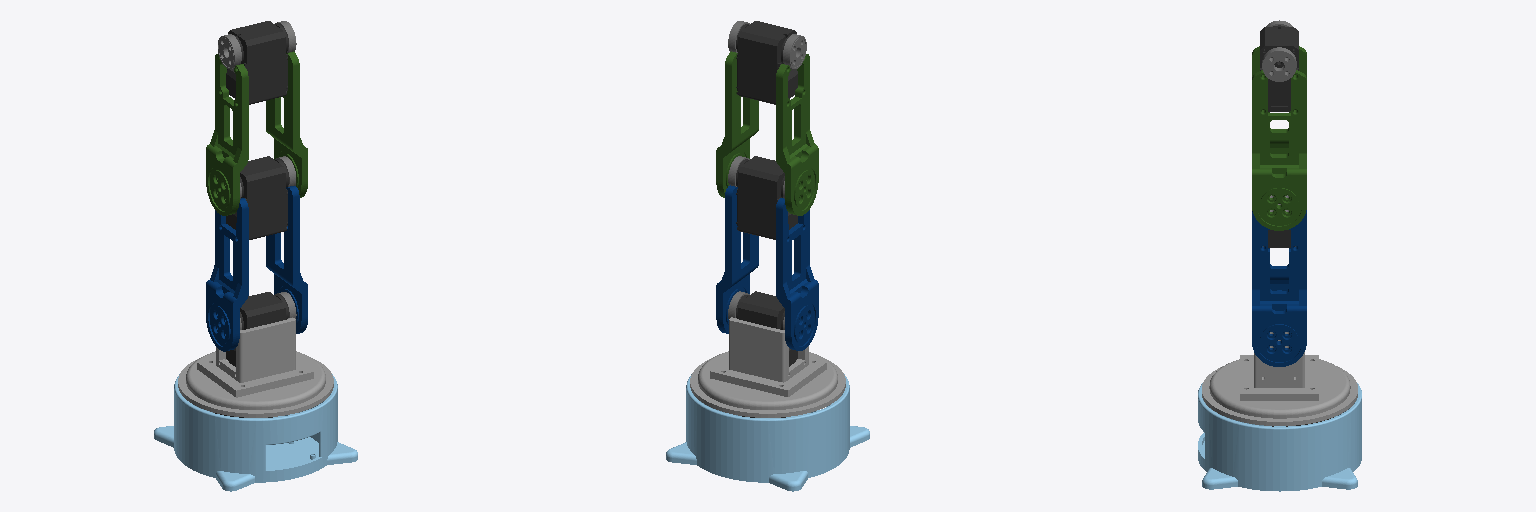
URDF robot description (onshape_export):
<?xml version="1.0" ?>
<!-- Generated using onshape-to-robot -->
<!-- Onshape https://cad.onshape.com/documents/b026964aa62daf9c1ecc4815/w/b181745cba52742b3ffb21e6/e/5ac1da73cba8f2619ef0b056 -->
<robot name="onshape_export">
  <!-- Link base_servo_board -->
  <link name="base_servo_board">
    <inertial>
      <origin xyz="-0.0133535 0.0277534 0.0174126" rpy="0 0 0"/>
      <mass value="0.129831"/>
      <inertia ixx="0.000122021" ixy="0" ixz="-1e-12" iyy="0.00011993" iyz="-4.59013e-06" izz="0.000193858"/>
    </inertial>
    <!-- Part base_servo_board -->
    <visual>
      <origin xyz="-0.0133535 0.025576 0.00282843" rpy="0 -0 -1.5708"/>
      <geometry>
        <mesh filename="package://assets/base_servo_board.stl"/>
      </geometry>
      <material name="base_servo_board_material">
        <color rgba="0.615686 0.811765 0.929412 1"/>
      </material>
    </visual>
    <collision>
      <origin xyz="-0.0133535 0.025576 0.00282843" rpy="0 -0 -1.5708"/>
      <geometry>
        <mesh filename="package://assets/base_servo_board.stl"/>
      </geometry>
    </collision>
    <!-- Part servo_motor_sts3215_v10 -->
    <visual>
      <origin xyz="-0.0133535 0.025576 0.00282843" rpy="0 -0 -1.5708"/>
      <geometry>
        <mesh filename="package://assets/servo_motor_sts3215_v10.stl"/>
      </geometry>
      <material name="servo_motor_sts3215_v10_material">
        <color rgba="0.247059 0.247059 0.247059 1"/>
      </material>
    </visual>
    <collision>
      <origin xyz="-0.0133535 0.025576 0.00282843" rpy="0 -0 -1.5708"/>
      <geometry>
        <mesh filename="package://assets/servo_motor_sts3215_v10.stl"/>
      </geometry>
    </collision>
  </link>
  <!-- Link base_of_shoulder -->
  <link name="base_of_shoulder">
    <inertial>
      <origin xyz="0.000212166 -0.000490641 -0.0181865" rpy="0 0 0"/>
      <mass value="0.158649"/>
      <inertia ixx="9.86914e-05" ixy="7.856e-09" ixz="3.75365e-07" iyy="9.48702e-05" iyz="-1.33715e-06" izz="0.00010186"/>
    </inertial>
    <!-- Part j2_servo -->
    <visual>
      <origin xyz="0.000373 -0.000626933 0.0189" rpy="-3.14159 0 -1.5708"/>
      <geometry>
        <mesh filename="package://assets/j2_servo.stl"/>
      </geometry>
      <material name="j2_servo_material">
        <color rgba="0.247059 0.247059 0.247059 1"/>
      </material>
    </visual>
    <collision>
      <origin xyz="0.000373 -0.000626933 0.0189" rpy="-3.14159 0 -1.5708"/>
      <geometry>
        <mesh filename="package://assets/j2_servo.stl"/>
      </geometry>
    </collision>
    <!-- Part base_of_shoulder -->
    <visual>
      <origin xyz="-0.0038 0 0.0398" rpy="3.14159 -0 0"/>
      <geometry>
        <mesh filename="package://assets/base_of_shoulder.stl"/>
      </geometry>
      <material name="base_of_shoulder_material">
        <color rgba="0.647059 0.647059 0.647059 1"/>
      </material>
    </visual>
    <collision>
      <origin xyz="-0.0038 0 0.0398" rpy="3.14159 -0 0"/>
      <geometry>
        <mesh filename="package://assets/base_of_shoulder.stl"/>
      </geometry>
    </collision>
    <!-- Part socker_j1 -->
    <visual>
      <origin xyz="0.000373 0.004173 0.0398" rpy="-3.14159 -0 -1.5708"/>
      <geometry>
        <mesh filename="package://assets/socker_j1.stl"/>
      </geometry>
      <material name="socker_j1_material">
        <color rgba="0.647059 0.647059 0.647059 1"/>
      </material>
    </visual>
    <collision>
      <origin xyz="0.000373 0.004173 0.0398" rpy="-3.14159 -0 -1.5708"/>
      <geometry>
        <mesh filename="package://assets/socker_j1.stl"/>
      </geometry>
    </collision>
  </link>
  <!-- Link shoulder_left -->
  <link name="shoulder_left">
    <inertial>
      <origin xyz="1.782e-09 0.0588026 0.0179401" rpy="0 0 0"/>
      <mass value="0.0926197"/>
      <inertia ixx="0.000134917" ixy="3.1e-11" ixz="-3e-12" iyy="3.16373e-05" iyz="-7.45929e-07" izz="0.00011795"/>
    </inertial>
    <!-- Part shoulder_left -->
    <visual>
      <origin xyz="-0 -0.0679 0.0176" rpy="-1.5708 -1.5708 0"/>
      <geometry>
        <mesh filename="package://assets/shoulder_left.stl"/>
      </geometry>
      <material name="shoulder_left_material">
        <color rgba="0.0627451 0.266667 0.490196 1"/>
      </material>
    </visual>
    <collision>
      <origin xyz="-0 -0.0679 0.0176" rpy="-1.5708 -1.5708 0"/>
      <geometry>
        <mesh filename="package://assets/shoulder_left.stl"/>
      </geometry>
    </collision>
    <!-- Part left_cover -->
    <visual>
      <origin xyz="-0 -0.0679 0.0176" rpy="-1.5708 -1.5708 0"/>
      <geometry>
        <mesh filename="package://assets/left_cover.stl"/>
      </geometry>
      <material name="left_cover_material">
        <color rgba="0.498039 0.498039 0.498039 1"/>
      </material>
    </visual>
    <collision>
      <origin xyz="-0 -0.0679 0.0176" rpy="-1.5708 -1.5708 0"/>
      <geometry>
        <mesh filename="package://assets/left_cover.stl"/>
      </geometry>
    </collision>
    <!-- Part j3_servo -->
    <visual>
      <origin xyz="0 -0.0679 0.0175809" rpy="-1.5708 -1.5708 0"/>
      <geometry>
        <mesh filename="package://assets/j3_servo.stl"/>
      </geometry>
      <material name="j3_servo_material">
        <color rgba="0.247059 0.247059 0.247059 1"/>
      </material>
    </visual>
    <collision>
      <origin xyz="0 -0.0679 0.0175809" rpy="-1.5708 -1.5708 0"/>
      <geometry>
        <mesh filename="package://assets/j3_servo.stl"/>
      </geometry>
    </collision>
    <!-- Part right_cover -->
    <visual>
      <origin xyz="0 -0.0679 0.0175617" rpy="-1.5708 -1.5708 0"/>
      <geometry>
        <mesh filename="package://assets/right_cover.stl"/>
      </geometry>
      <material name="right_cover_material">
        <color rgba="0.498039 0.498039 0.498039 1"/>
      </material>
    </visual>
    <collision>
      <origin xyz="0 -0.0679 0.0175617" rpy="-1.5708 -1.5708 0"/>
      <geometry>
        <mesh filename="package://assets/right_cover.stl"/>
      </geometry>
    </collision>
    <!-- Part shoulder_right -->
    <visual>
      <origin xyz="0 -0.0679 0.0175617" rpy="-1.5708 -1.5708 0"/>
      <geometry>
        <mesh filename="package://assets/shoulder_right.stl"/>
      </geometry>
      <material name="shoulder_right_material">
        <color rgba="0.0627451 0.266667 0.490196 1"/>
      </material>
    </visual>
    <collision>
      <origin xyz="0 -0.0679 0.0175617" rpy="-1.5708 -1.5708 0"/>
      <geometry>
        <mesh filename="package://assets/shoulder_right.stl"/>
      </geometry>
    </collision>
  </link>
  <!-- Link left_cover -->
  <link name="left_cover">
    <inertial>
      <origin xyz="1.757e-09 0.0585345 0.0179499" rpy="0 0 0"/>
      <mass value="0.0917628"/>
      <inertia ixx="0.000133948" ixy="3.2e-11" ixz="-3e-12" iyy="3.12113e-05" iyz="-5.94716e-07" izz="0.000117205"/>
    </inertial>
    <!-- Part right_cover_2 -->
    <visual>
      <origin xyz="-0 -0.0679 0.0175617" rpy="-1.5708 -1.5708 0"/>
      <geometry>
        <mesh filename="package://assets/right_cover.stl"/>
      </geometry>
      <material name="right_cover_2_material">
        <color rgba="0.498039 0.498039 0.498039 1"/>
      </material>
    </visual>
    <collision>
      <origin xyz="-0 -0.0679 0.0175617" rpy="-1.5708 -1.5708 0"/>
      <geometry>
        <mesh filename="package://assets/right_cover.stl"/>
      </geometry>
    </collision>
    <!-- Part elbow_left -->
    <visual>
      <origin xyz="0 -0.0539 0.0176" rpy="-1.5708 -1.5708 0"/>
      <geometry>
        <mesh filename="package://assets/elbow_left.stl"/>
      </geometry>
      <material name="elbow_left_material">
        <color rgba="0.25098 0.419608 0.172549 1"/>
      </material>
    </visual>
    <collision>
      <origin xyz="0 -0.0539 0.0176" rpy="-1.5708 -1.5708 0"/>
      <geometry>
        <mesh filename="package://assets/elbow_left.stl"/>
      </geometry>
    </collision>
    <!-- Part elbow_right -->
    <visual>
      <origin xyz="-0 -0.0539 0.0175617" rpy="-1.5708 -1.5708 0"/>
      <geometry>
        <mesh filename="package://assets/elbow_right.stl"/>
      </geometry>
      <material name="elbow_right_material">
        <color rgba="0.25098 0.419608 0.172549 1"/>
      </material>
    </visual>
    <collision>
      <origin xyz="-0 -0.0539 0.0175617" rpy="-1.5708 -1.5708 0"/>
      <geometry>
        <mesh filename="package://assets/elbow_right.stl"/>
      </geometry>
    </collision>
    <!-- Part left_cover_2 -->
    <visual>
      <origin xyz="-0 -0.0679 0.0176" rpy="-1.5708 -1.5708 0"/>
      <geometry>
        <mesh filename="package://assets/left_cover.stl"/>
      </geometry>
      <material name="left_cover_2_material">
        <color rgba="0.498039 0.498039 0.498039 1"/>
      </material>
    </visual>
    <collision>
      <origin xyz="-0 -0.0679 0.0176" rpy="-1.5708 -1.5708 0"/>
      <geometry>
        <mesh filename="package://assets/left_cover.stl"/>
      </geometry>
    </collision>
    <!-- Part j3_servo_2 -->
    <visual>
      <origin xyz="-0 -0.0539 0.0175809" rpy="-1.5708 -1.5708 0"/>
      <geometry>
        <mesh filename="package://assets/j3_servo__2.stl"/>
      </geometry>
      <material name="j3_servo_2_material">
        <color rgba="0.247059 0.247059 0.247059 1"/>
      </material>
    </visual>
    <collision>
      <origin xyz="-0 -0.0539 0.0175809" rpy="-1.5708 -1.5708 0"/>
      <geometry>
        <mesh filename="package://assets/j3_servo__2.stl"/>
      </geometry>
    </collision>
  </link>
  <!-- Link left_cover_2 -->
  <link name="left_cover_2">
    <inertial>
      <origin xyz="4.777e-09 0.0204021 0.0176066" rpy="0 0 0"/>
      <mass value="0.0268203"/>
      <inertia ixx="1.96673e-05" ixy="3e-12" ixz="0" iyy="1.51395e-05" iyz="3.634e-09" izz="8.15979e-06"/>
    </inertial>
    <!-- Part left_cover_3 -->
    <visual>
      <origin xyz="-0 -0.1499 0.0581" rpy="-1.5708 -1.5708 0"/>
      <geometry>
        <mesh filename="package://assets/left_cover__2.stl"/>
      </geometry>
      <material name="left_cover_3_material">
        <color rgba="0.498039 0.498039 0.498039 1"/>
      </material>
    </visual>
    <collision>
      <origin xyz="-0 -0.1499 0.0581" rpy="-1.5708 -1.5708 0"/>
      <geometry>
        <mesh filename="package://assets/left_cover__2.stl"/>
      </geometry>
    </collision>
    <!-- Part left_cover_4 -->
    <visual>
      <origin xyz="-0 -0.0539 0.0176" rpy="-1.5708 -1.5708 0"/>
      <geometry>
        <mesh filename="package://assets/left_cover__3.stl"/>
      </geometry>
      <material name="left_cover_4_material">
        <color rgba="0.498039 0.498039 0.498039 1"/>
      </material>
    </visual>
    <collision>
      <origin xyz="-0 -0.0539 0.0176" rpy="-1.5708 -1.5708 0"/>
      <geometry>
        <mesh filename="package://assets/left_cover__3.stl"/>
      </geometry>
    </collision>
    <!-- Part top_arm -->
    <visual>
      <origin xyz="-0 -0.1499 0.0176" rpy="-1.5708 -1.5708 0"/>
      <geometry>
        <mesh filename="package://assets/top_arm.stl"/>
      </geometry>
      <material name="top_arm_material">
        <color rgba="0.262745 0.282353 0.301961 1"/>
      </material>
    </visual>
    <collision>
      <origin xyz="-0 -0.1499 0.0176" rpy="-1.5708 -1.5708 0"/>
      <geometry>
        <mesh filename="package://assets/top_arm.stl"/>
      </geometry>
    </collision>
  </link>
  <!-- Joint from left_cover to left_cover_2 -->
  <joint name="left_3_arm" type="revolute">
    <origin xyz="0 0.096 -1.91259e-05" rpy="0 0 0"/>
    <parent link="left_cover"/>
    <child link="left_cover_2"/>
    <axis xyz="0 0 1"/>
    <limit effort="10" velocity="10" lower="-2.0944" upper="2.0944"/>
  </joint>
  <!-- Joint from shoulder_left to left_cover -->
  <joint name="left_2_arm" type="revolute">
    <origin xyz="0 0.096 -1.91259e-05" rpy="0 -0 0"/>
    <parent link="shoulder_left"/>
    <child link="left_cover"/>
    <axis xyz="0 0 1"/>
    <limit effort="10" velocity="10" lower="-2.0944" upper="2.0944"/>
  </joint>
  <!-- Joint from base_of_shoulder to shoulder_left -->
  <joint name="left_1_arm" type="revolute">
    <origin xyz="0.000373 0.0169731 -0.049" rpy="-1.5708 -0 -3.14159"/>
    <parent link="base_of_shoulder"/>
    <child link="shoulder_left"/>
    <axis xyz="0 0 1"/>
    <limit effort="10" velocity="10" lower="-1.5708" upper="1.5708"/>
  </joint>
  <!-- Joint from base_servo_board to base_of_shoulder -->
  <joint name="Servor_1_to_waist" type="revolute">
    <origin xyz="-0.0133535 0.021776 0.0426284" rpy="-3.14159 0 -1.5708"/>
    <parent link="base_servo_board"/>
    <child link="base_of_shoulder"/>
    <axis xyz="0 0 1"/>
    <limit effort="10" velocity="10" lower="-3.14159" upper="3.14159"/>
  </joint>
</robot>

--- What the picture shows (computed from the rendered views, not written in the file) ---
3 views of the same robot in one strip: view 1: azimuth 30°, elevation 25°; view 2: azimuth 150°, elevation 25°; view 3: azimuth 270°, elevation 25° (orthographic).
Robot: onshape_export — 5 links, 4 joints (4 revolute); root link base_servo_board; default pose: all joints at 0.
Visible links, largest first — view 1: base_servo_board, left_cover, base_of_shoulder, shoulder_left, left_cover_2; view 2: base_servo_board, left_cover, base_of_shoulder, shoulder_left, left_cover_2; view 3: base_servo_board, left_cover, base_of_shoulder, shoulder_left, left_cover_2.
Boxes of the visible links, left/top/right/bottom form: base_servo_board: left=154, top=374, right=357, bottom=491; left_cover: left=206, top=21, right=307, bottom=215; base_of_shoulder: left=178, top=292, right=333, bottom=417; shoulder_left: left=206, top=156, right=307, bottom=351; left_cover_2: left=218, top=21, right=296, bottom=68; base_servo_board: left=666, top=374, right=869, bottom=491; left_cover: left=716, top=21, right=818, bottom=215; base_of_shoulder: left=690, top=291, right=845, bottom=417; shoulder_left: left=716, top=156, right=818, bottom=350; left_cover_2: left=728, top=21, right=806, bottom=68; base_servo_board: left=1198, top=383, right=1361, bottom=491; left_cover: left=1252, top=25, right=1306, bottom=230; base_of_shoulder: left=1202, top=352, right=1357, bottom=425; shoulder_left: left=1252, top=210, right=1306, bottom=366; left_cover_2: left=1262, top=20, right=1296, bottom=81.
Size in the robot's own frame: 0.105 by 0.105 by 0.2968 metres.
17 mesh visuals loaded from 16 distinct referenced files (15 binary STL); not drawn: 1 (reference not matched to a file when rendering).
